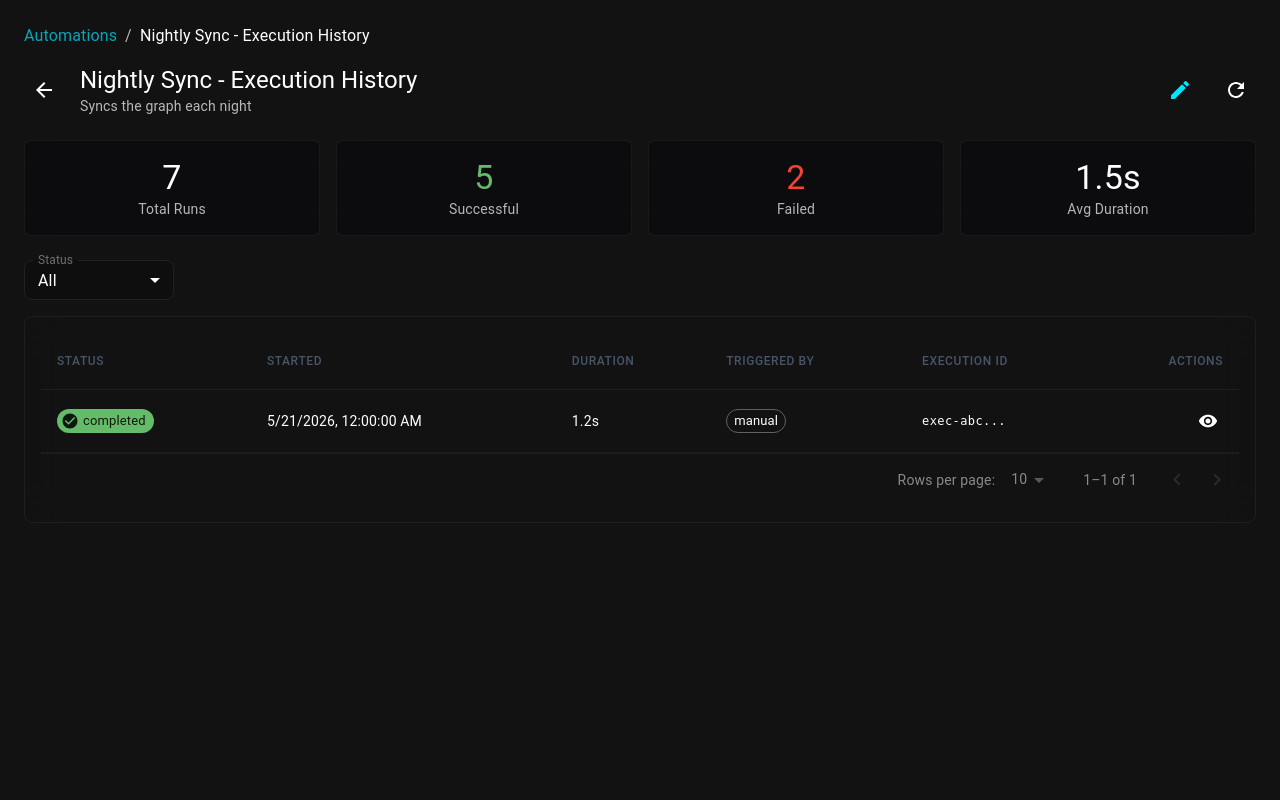
Test: WorkflowExecutionHistoryPage › fetches execution detail when a row is opened
What coordinates should you click on to do the following:
click the button named "View Details"
I would click on:
 (1208, 421)
Its box is [1193,406,1223,436].
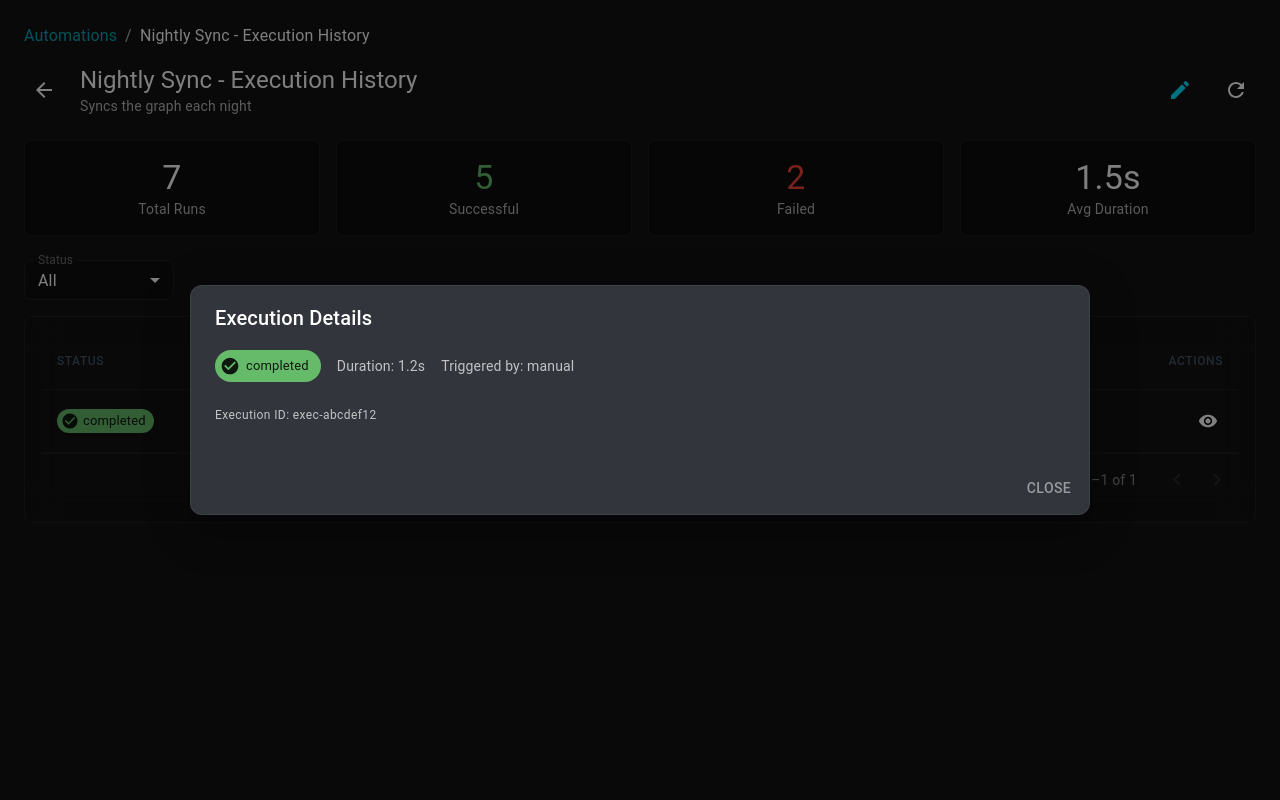
Expected: the dialog is shown, [190,285,1090,515]
